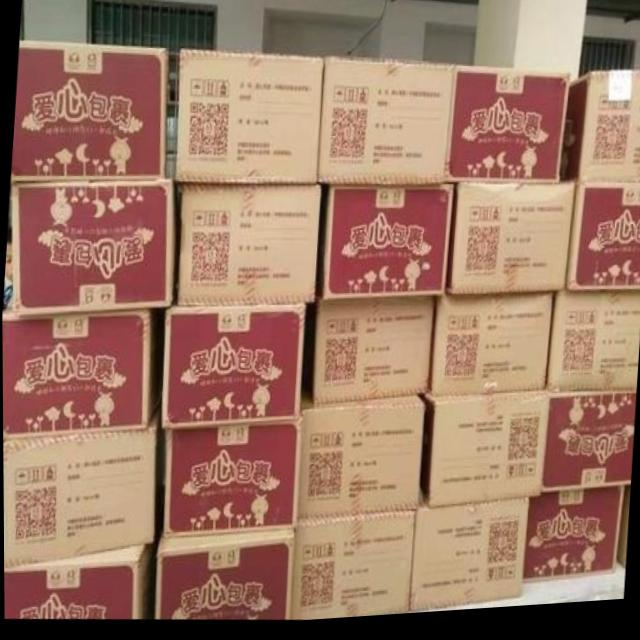box: (3, 411, 158, 568), (2, 295, 161, 439), (10, 40, 168, 181), (11, 178, 173, 313), (173, 51, 324, 189), (160, 307, 305, 431), (316, 60, 453, 190), (176, 186, 321, 307), (161, 422, 301, 539), (298, 401, 425, 523), (417, 397, 549, 514), (322, 188, 453, 303), (443, 72, 570, 188), (408, 495, 528, 616), (445, 189, 573, 301), (289, 517, 415, 623), (312, 301, 435, 407), (427, 299, 552, 402), (153, 534, 294, 622), (3, 544, 149, 619), (520, 494, 624, 590), (545, 296, 640, 399), (540, 398, 634, 500), (558, 79, 640, 190), (566, 190, 640, 298)
